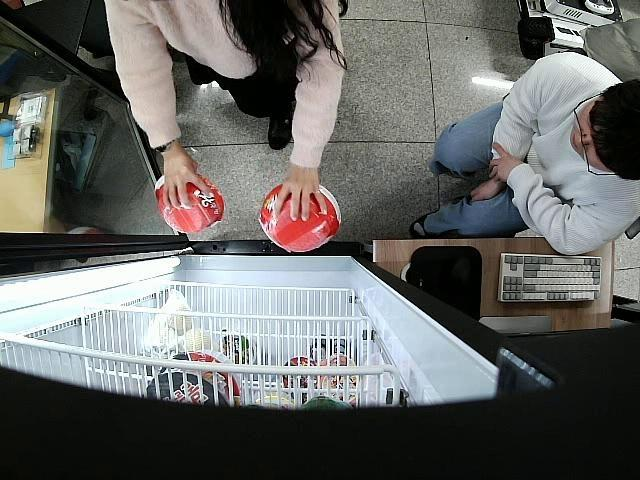10_wangTtukkeong: (260, 182, 340, 252), (156, 174, 227, 234)
